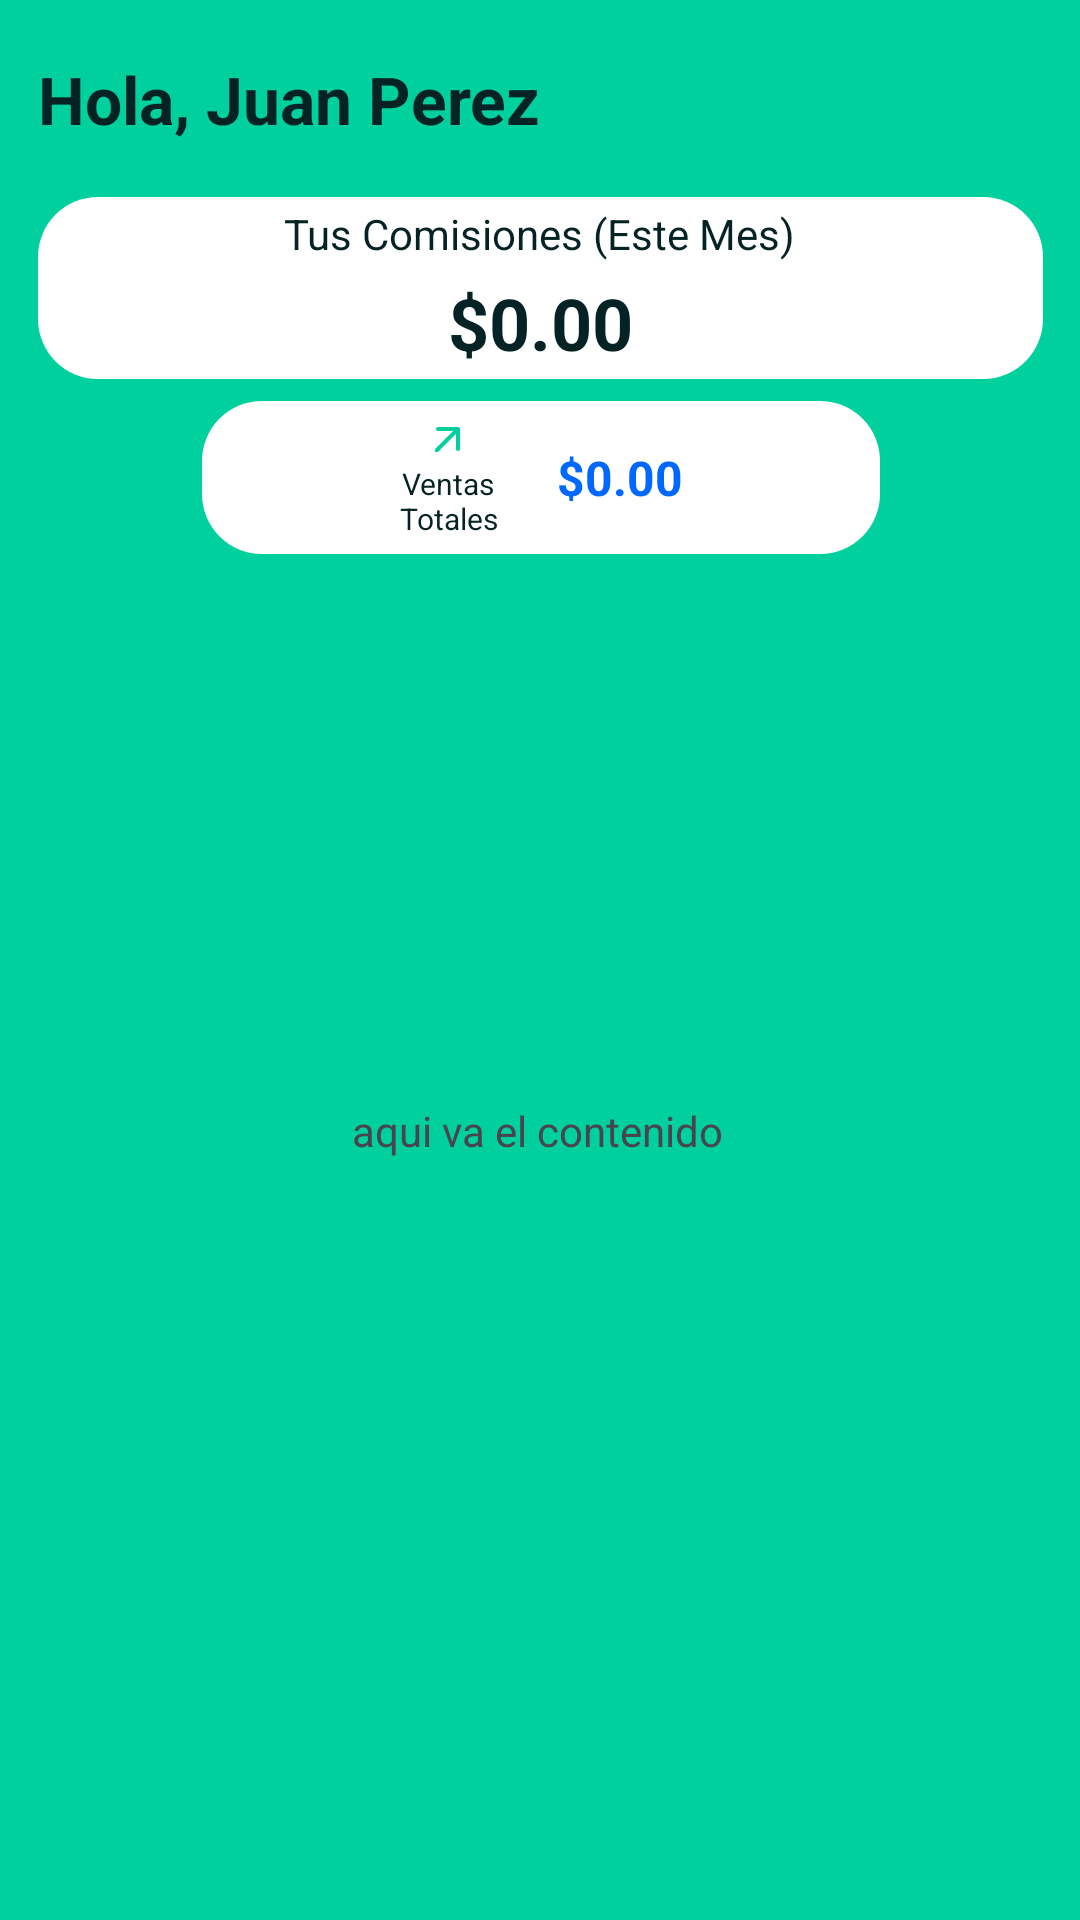

Where to tap for icons on this 1080 x 1920 app screen, as [x,y]:
flecha ascendente: [447,439]
